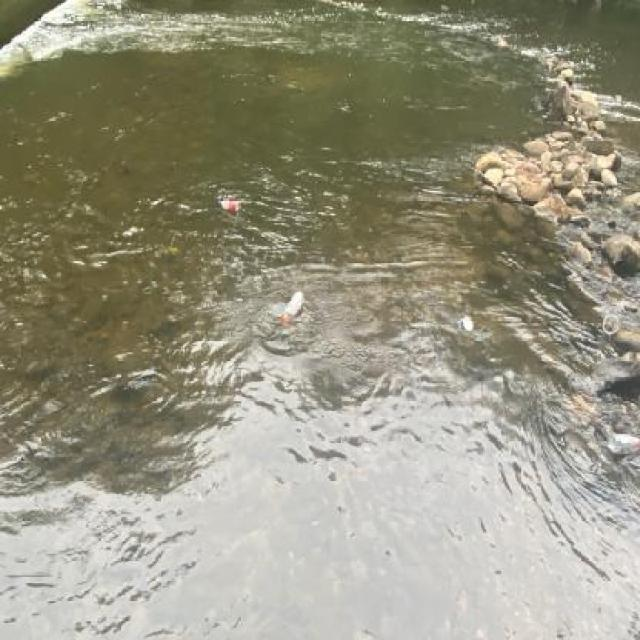Plastic: (280, 288, 306, 324), (214, 195, 240, 216)
